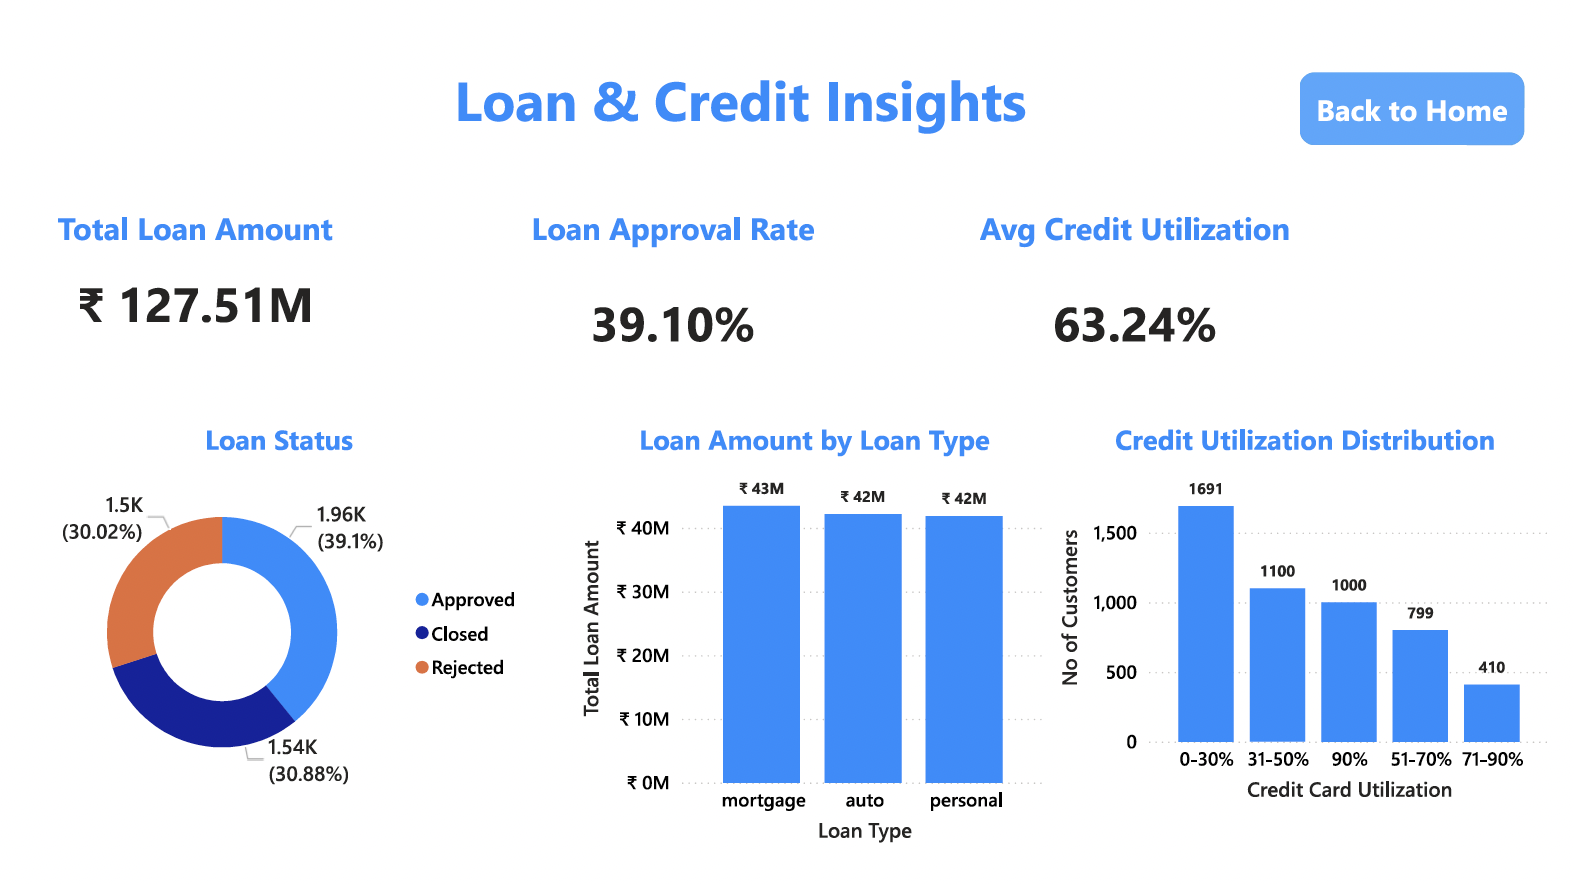

The page's visual inventory and layout, read from the dashboard file:
{"tool":"powerbi","page":{"name":"Loan & Credit Insights","canvas":[1280,720],"ordinal":2},"visuals":[{"type":"textbox","box":[188.7,41.8,850,82.7],"z":0},{"type":"actionButton","title":"Back to Home","box":[1051.4,55.4,175.1,56.4],"z":1000},{"type":"card","title":"Total Loan Amount","fields":{"Values":["Sum(loan_clean.loan_amount)"]},"box":[37.9,159.5,300.5,119.6],"z":2000},{"type":"card","title":"Loan Approval Rate","fields":{"Values":["loan_clean.loan approval rate"]},"box":[411.4,159.6,300.6,149.9],"z":3000},{"type":"card","title":"Avg Credit Utilization","fields":{"Values":["card_clean.avg credit utilization"]},"box":[772.3,159.6,300.6,149.9],"z":4000},{"type":"donutChart","title":"Loan Status","fields":{"Y":["CountNonNull(loan_clean.loan_status)"],"Category":["loan_clean.loan_status"]},"box":[54.1,327.2,399,303.3],"z":5000},{"type":"clusteredColumnChart","title":"Loan Amount by Loan Type","fields":{"Y":["Sum(loan_clean.loan_amount)"],"Category":["loan_clean.loan_type"]},"box":[485,327.2,374.2,335.2],"z":6000},{"type":"clusteredColumnChart","title":"Credit Utilization Distribution","fields":{"Category":["card_clean.utilization bucket"],"Y":["Count(card_clean.card_id)"]},"box":[859.2,327.2,392.8,303.3],"z":7000}]}

Visuals, with their boxes in screenshot pixels (x1, y1, x2, y2), scaled from the page's 1280x720 canvas onto the 1574x884 screenshot:
textbox: (232, 51, 1277, 153)
"Back to Home" actionButton: (1293, 68, 1508, 137)
"Total Loan Amount" card: (47, 196, 416, 343)
"Loan Approval Rate" card: (506, 196, 876, 380)
"Avg Credit Utilization" card: (950, 196, 1319, 380)
"Loan Status" donutChart: (67, 402, 557, 774)
"Loan Amount by Loan Type" clusteredColumnChart: (596, 402, 1057, 813)
"Credit Utilization Distribution" clusteredColumnChart: (1057, 402, 1540, 774)
